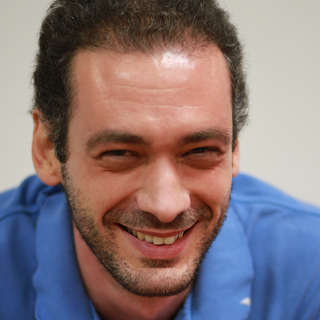eye: (94, 144, 141, 164), (179, 141, 223, 162)
